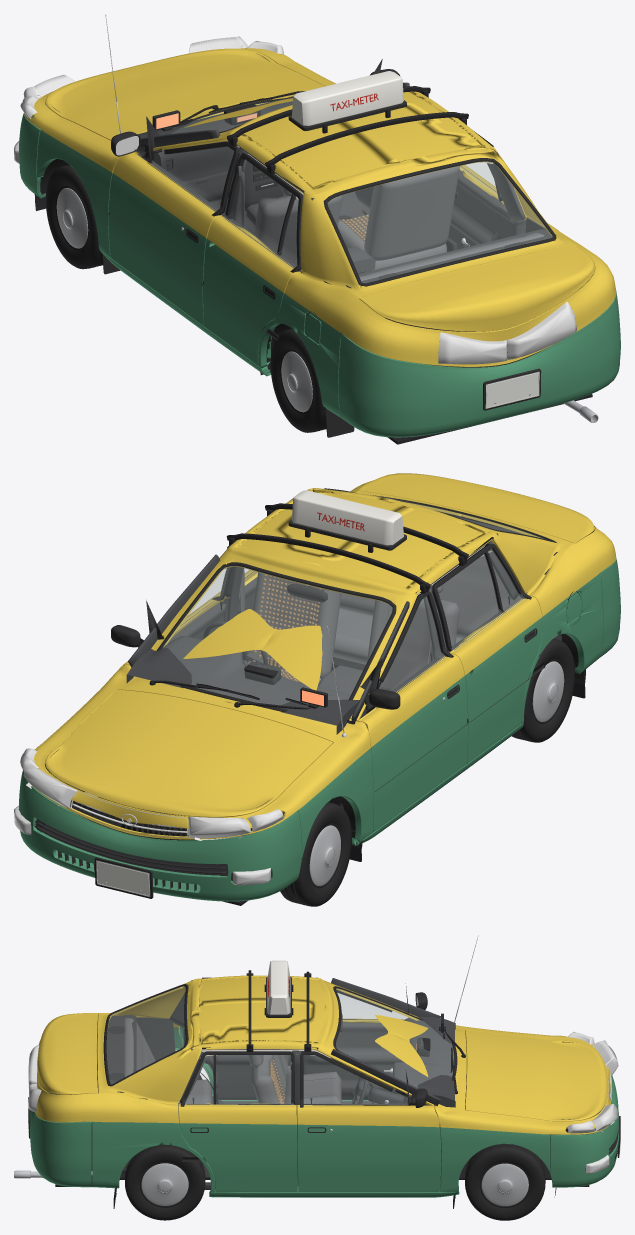
The model's file is taxi.glb.
3 renders of one model, top to bottom at view 1: azimuth 30°, elevation 25°; view 2: azimuth 150°, elevation 25°; view 3: azimuth 270°, elevation 25°, orthographic. The views are drawn at different scales.
Parts seen in each view (by area): view 1: body, interior, glass_rear, door_fl, hood, trunk, door_rl, wheel_fl, wheel_rl, roof_sign, door_rr, glass_rl (+5 smaller); view 2: body, interior, hood, glass_windshield, door_fl, door_rl, trunk, wheel_fl, wheel_rl, roof_sign, glass_rl, glass_fl (+6 smaller); view 3: body, interior, door_fr, hood, door_rr, glass_windshield, glass_rear, wheel_fr, wheel_rr, trunk, glass_rr, door_fl (+5 smaller).
Part boxes in pixels (box(x1,y1,x2,y2)): body: box(14, 14, 620, 444); interior: box(137, 82, 552, 312); glass_rear: box(328, 161, 552, 282); door_fl: box(108, 116, 239, 326); hood: box(45, 48, 324, 140); trunk: box(358, 245, 595, 331); door_rl: box(202, 153, 302, 365); wheel_fl: box(46, 164, 102, 269); wheel_rl: box(270, 328, 326, 432); roof_sign: box(292, 71, 403, 126); door_rr: box(448, 165, 526, 249); glass_rl: box(222, 160, 291, 254); body: box(14, 480, 620, 905); interior: box(126, 516, 561, 808); hood: box(45, 689, 333, 817); glass_windshield: box(163, 566, 392, 704); door_fl: box(356, 590, 468, 832); door_rl: box(432, 544, 545, 763); trunk: box(359, 473, 594, 543); wheel_fl: box(280, 802, 351, 906); wheel_rl: box(511, 638, 574, 742); roof_sign: box(291, 490, 403, 545); glass_rl: box(437, 554, 504, 651); glass_fl: box(379, 596, 446, 692); body: box(14, 935, 620, 1208); interior: box(106, 978, 455, 1189); door_fr: box(297, 1051, 441, 1192); hood: box(465, 1029, 608, 1121); door_rr: box(178, 1051, 297, 1192); glass_windshield: box(336, 988, 453, 1087); glass_rear: box(107, 986, 185, 1083); wheel_fr: box(465, 1143, 545, 1220); wheel_rr: box(125, 1144, 205, 1220); trunk: box(37, 1013, 97, 1094); glass_rr: box(216, 1055, 293, 1105); door_fl: box(303, 983, 427, 1099).
Bounding box in the file's own units: 1.82 × 1.59 × 4.4.
